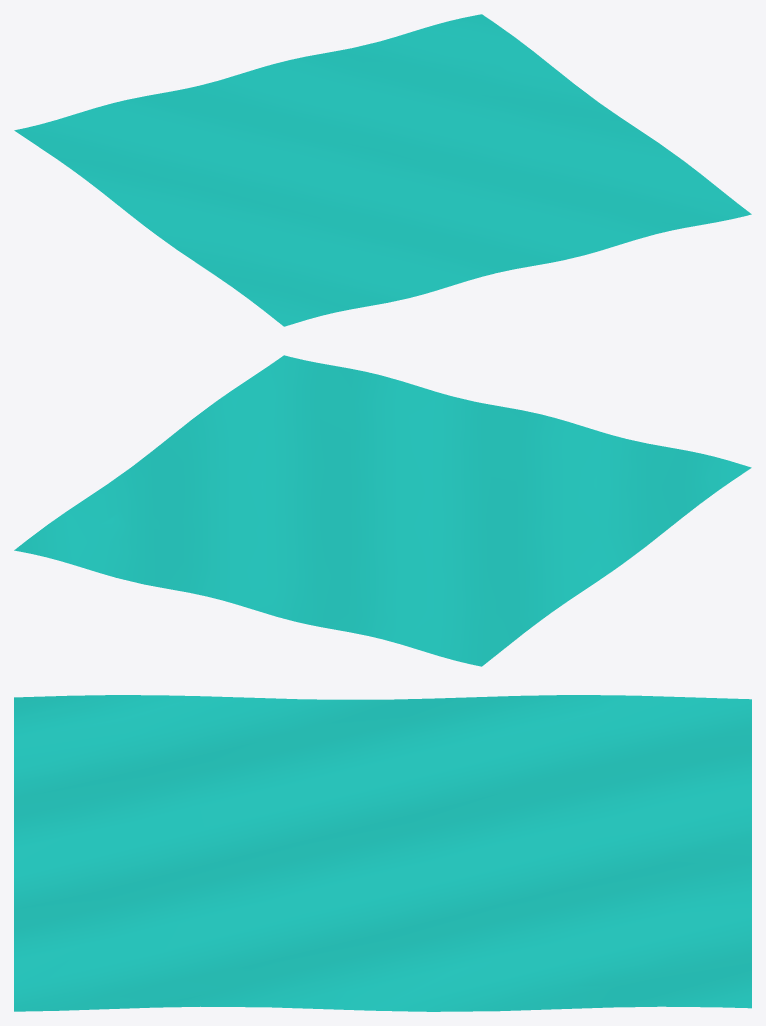
File: Water_tile_16m_LOD2.glb
The picture shows the model from 3 angles, top to bottom: view 1: azimuth 30°, elevation 25°; view 2: azimuth 150°, elevation 25°; view 3: azimuth 270°, elevation 25°; orthographic projection. The views are drawn at different scales.
Parts seen in each view (by area): view 1: Water surface; view 2: Water surface; view 3: Water surface.
Part boxes in pixels (bbox=[...]): Water surface: bbox=[14, 14, 751, 326]; Water surface: bbox=[14, 355, 751, 666]; Water surface: bbox=[14, 695, 751, 1011].
Bounding box in the file's own units: 16 × 0.1228 × 16.
